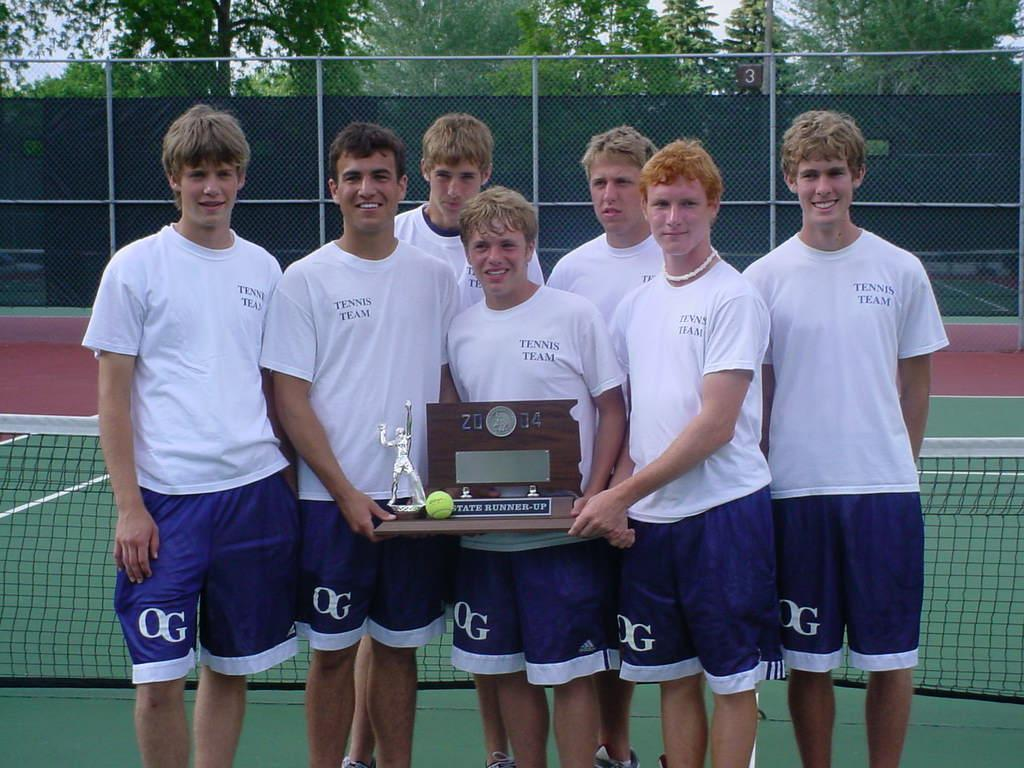face: (647, 179, 708, 256), (337, 150, 395, 230), (467, 221, 524, 296), (590, 154, 641, 232), (797, 154, 851, 223), (429, 151, 480, 218), (182, 156, 231, 224), (397, 429, 404, 438)
